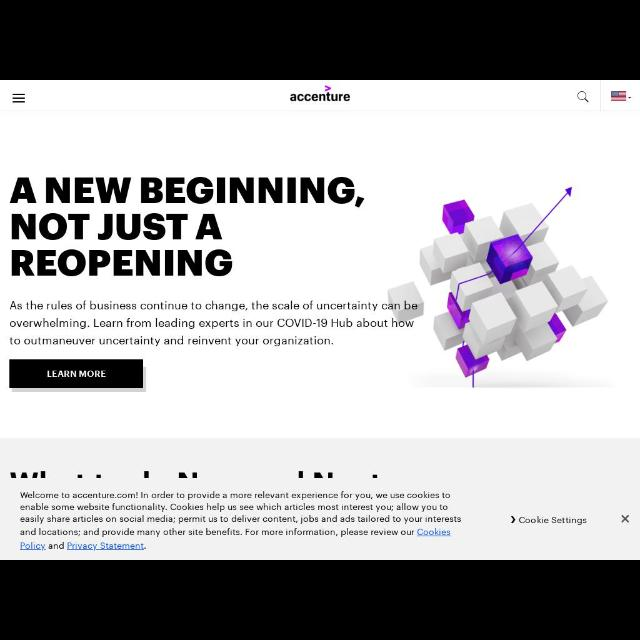icon: (12, 92, 26, 106), (576, 91, 590, 105), (621, 514, 631, 524), (510, 516, 516, 526)
image: (389, 182, 611, 388), (288, 84, 354, 104), (610, 90, 628, 102)
link: (67, 542, 147, 550), (417, 528, 453, 538), (22, 543, 46, 551)
panel: (4, 480, 638, 554)
text: (10, 176, 364, 278), (21, 492, 463, 550), (11, 300, 420, 348), (519, 517, 587, 525)
textbutton: (8, 360, 144, 390)
toolbar: (1, 80, 639, 110)
